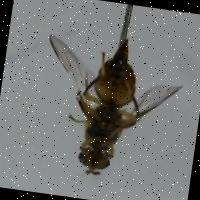Oriental-fruit-fly: (31, 23, 194, 190)
